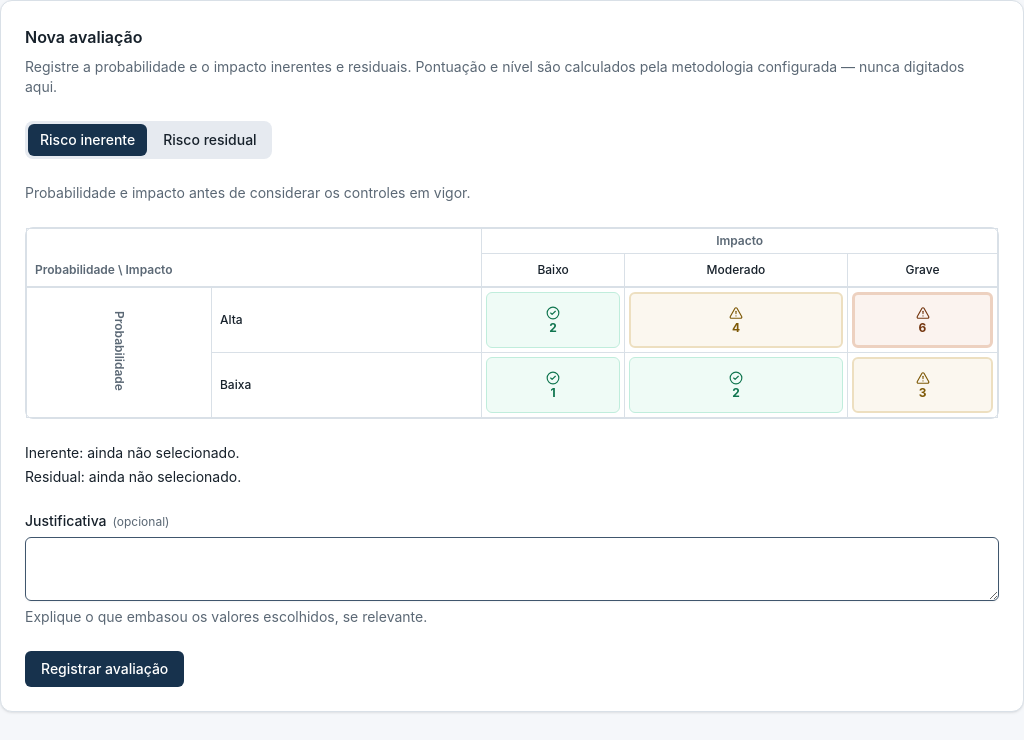
AssessmentForm › requires both an inherent and a residual selection before it may be submitted
Expected: the table is shown, [26,228,998,418]
Click the button "Registrar avaliação" at (105, 669), box [25,651,184,687]
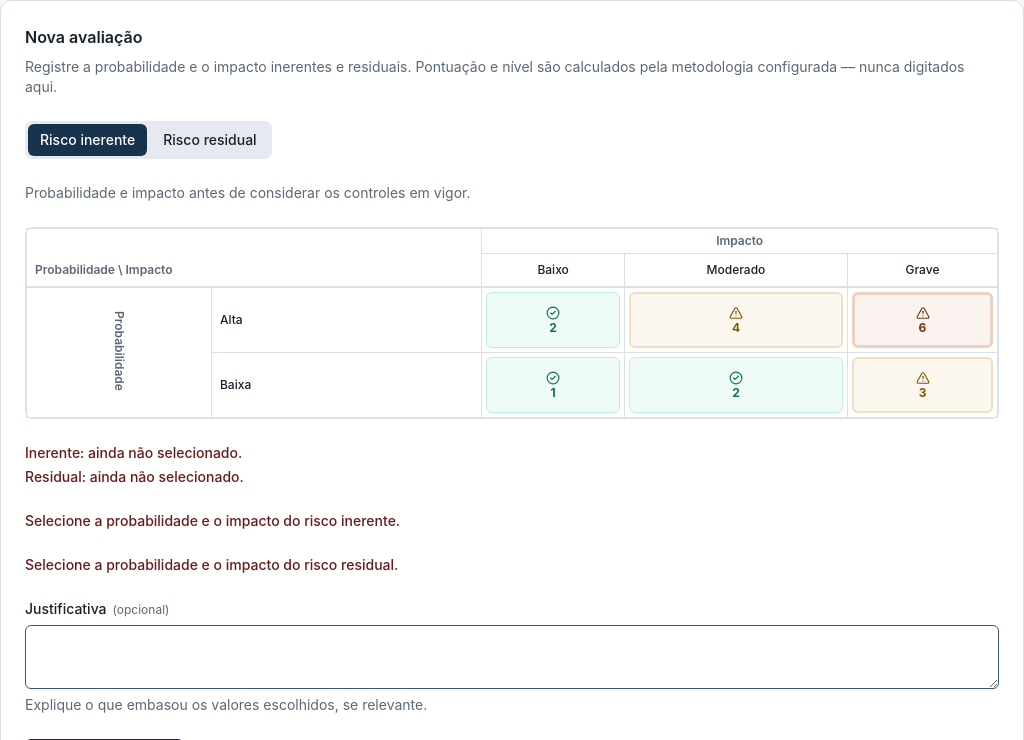
Expected: the text "Selecione a probabilidade e o impacto do risco inerente." is shown, [25,512,400,529]
Expected: the text "Selecione a probabilidade e o impacto do risco residual." is shown, [25,556,398,573]
